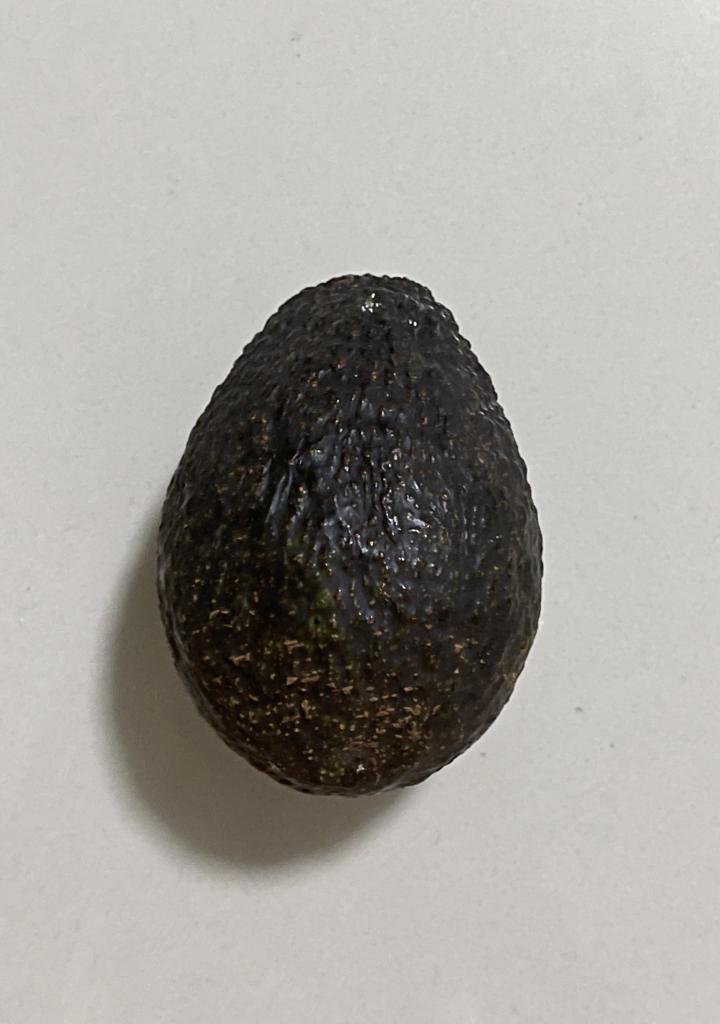Level2: (145, 267, 556, 800)
